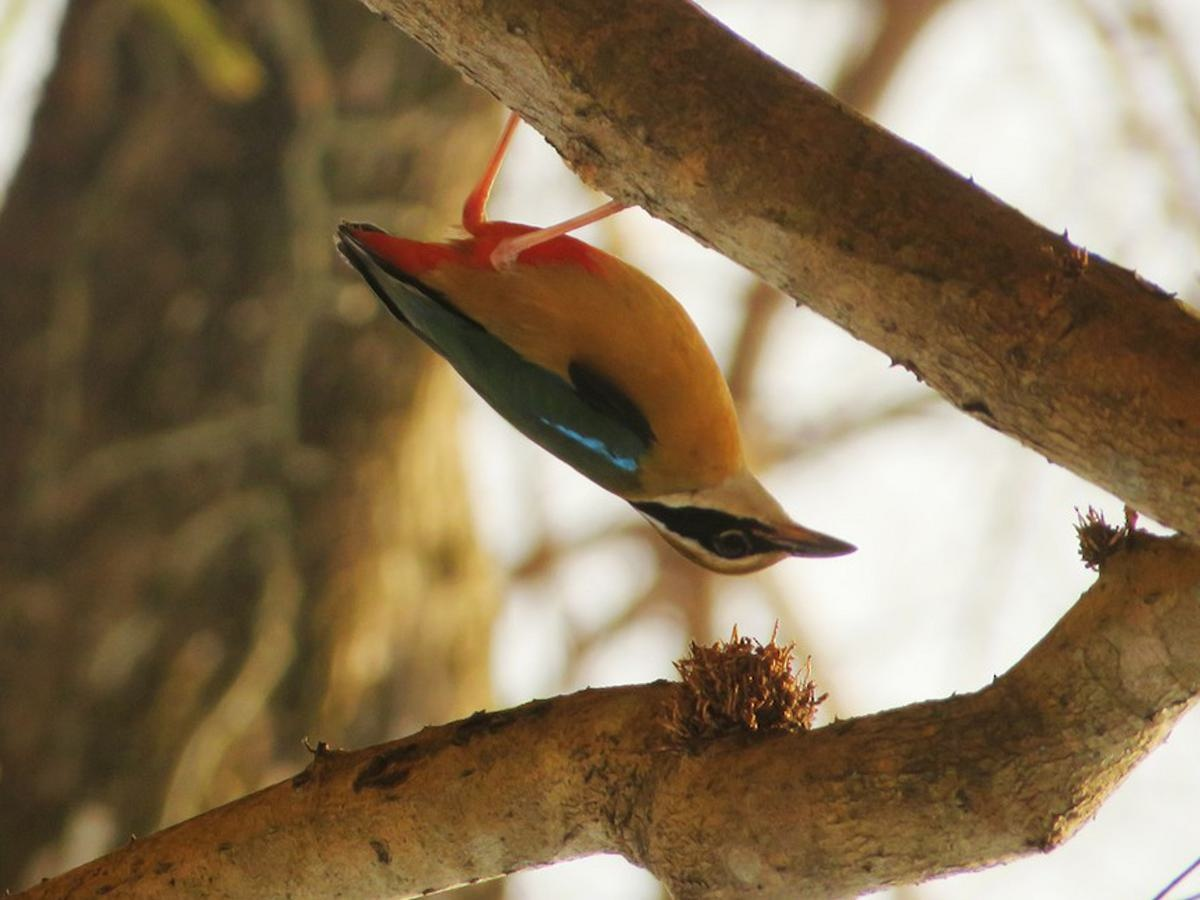pitta: (307, 95, 877, 621)
